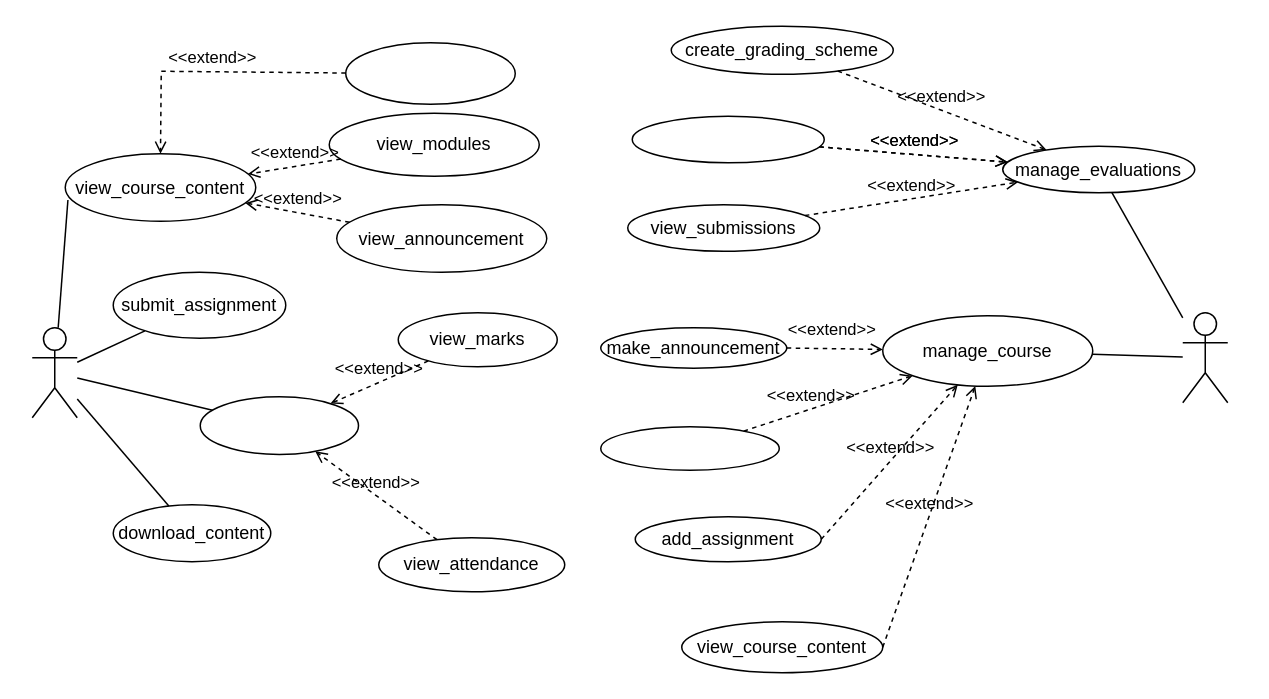
The diagram is 1269 pixels wide and 699 high, and some of its shapes have lost their labels. The box of each missing label's shape, as (x1, y1, x2, y2) in pixels:
evaluate_assignment: (631, 115, 824, 163)
Instructor: (1181, 311, 1228, 403)
student: (31, 326, 77, 418)
upload_content: (599, 425, 779, 470)
view_assignment: (344, 41, 515, 104)
view_progress: (199, 395, 358, 454)
